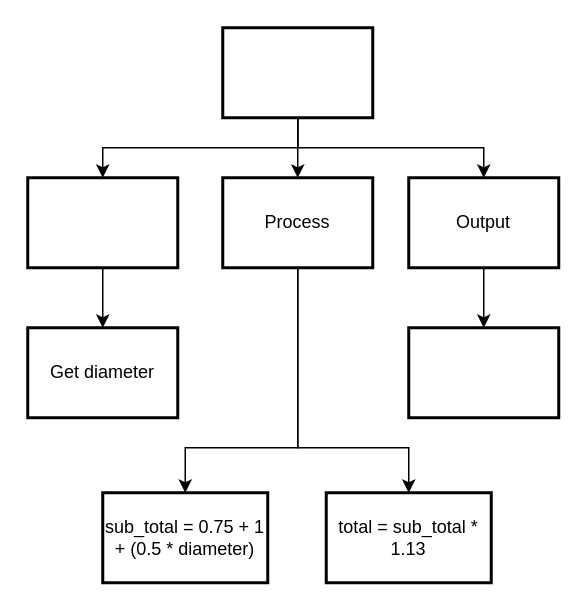
The diagram is 585 pixels wide and 609 high, and some of its shapes have lost their labels. The centre of each missing label's shape, as x and y in pixels:
Input: the point at 102,222
Pizza Cost: the point at 297,72
Show total: the point at 483,372
